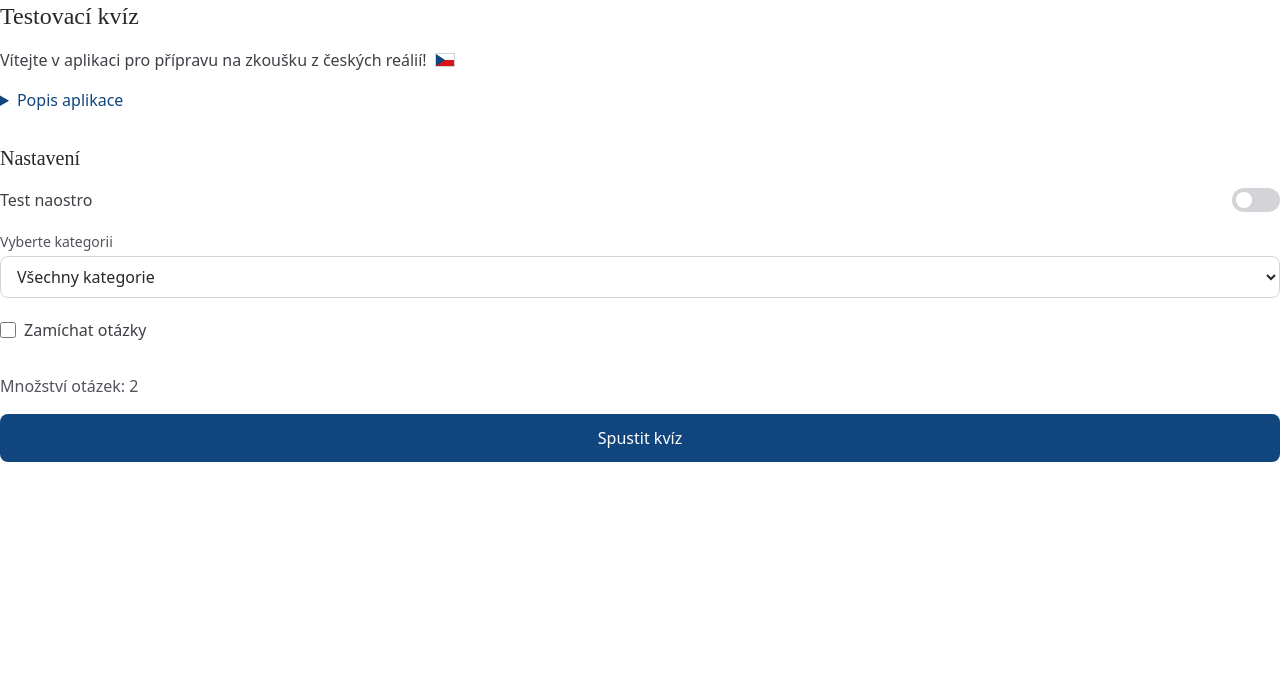
Test: Quiz › playing through a quiz › awards points for correct answers only
Click the button "Spustit kvíz" at (640, 438), box [0, 414, 1279, 462]
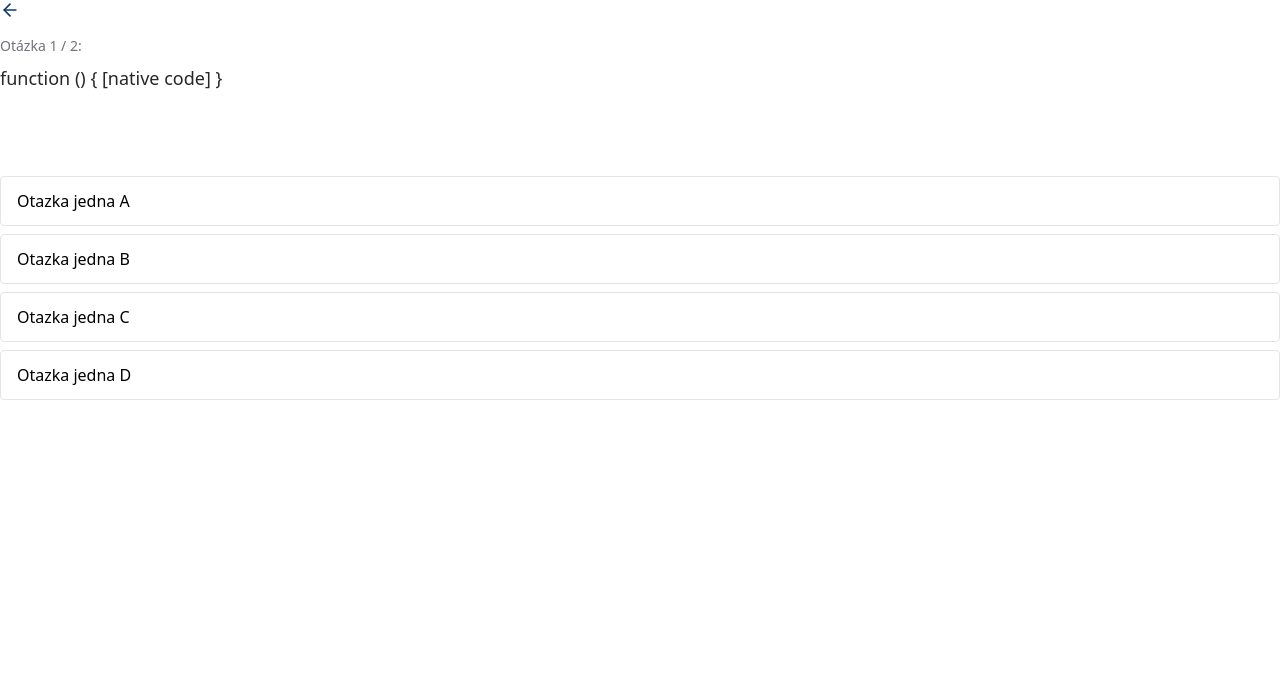
Click the button "Otazka jedna C" at (73, 317), box [0, 292, 1279, 342]
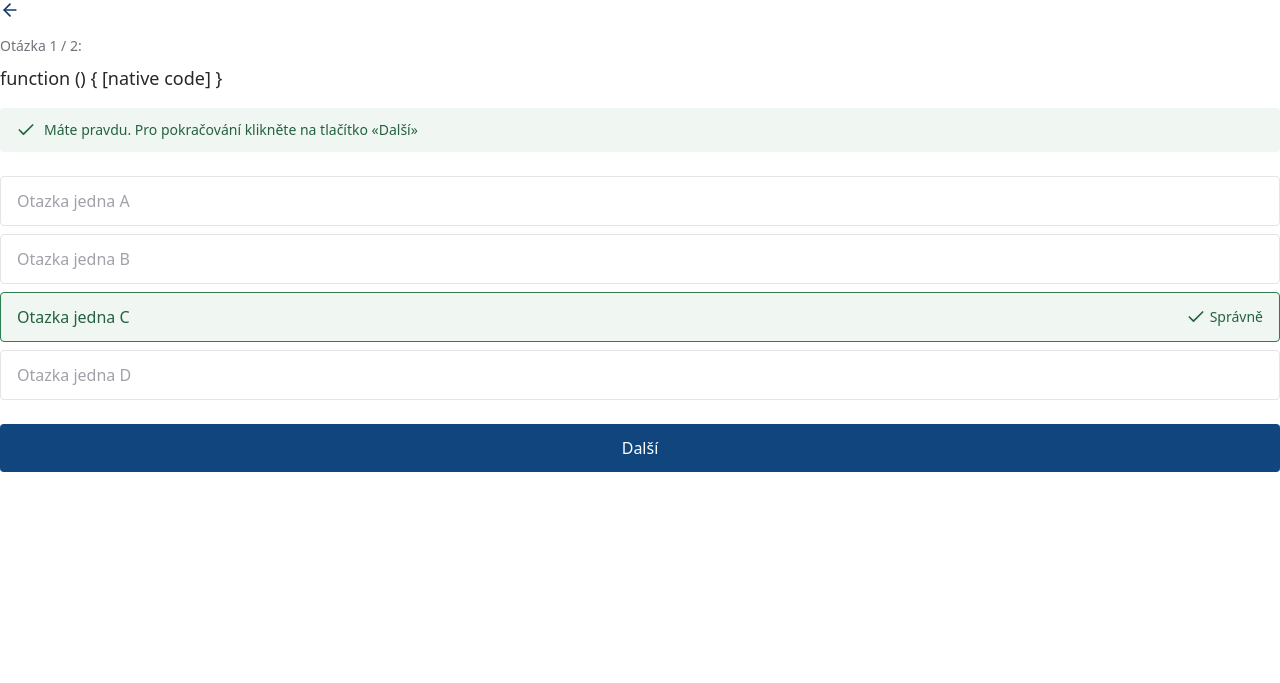
Click the button "Další" at (640, 448), box [0, 424, 1279, 472]
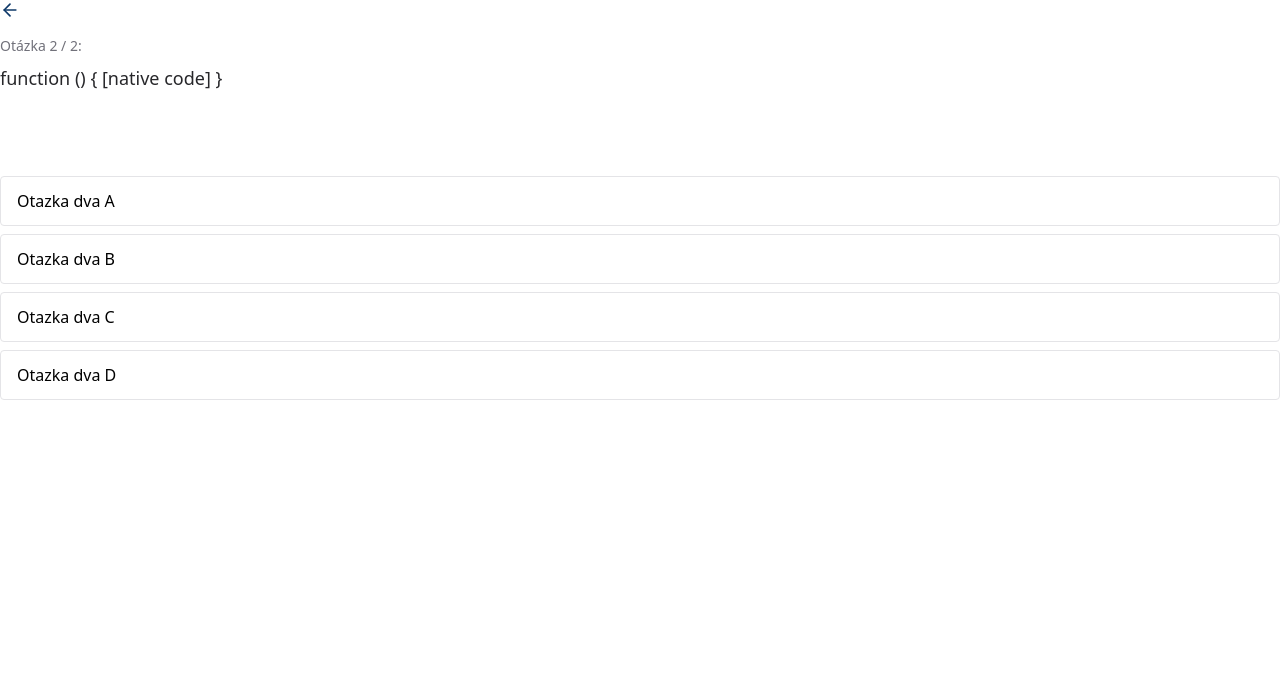
Click the button "Otazka dva D" at (67, 375), box [0, 350, 1279, 400]
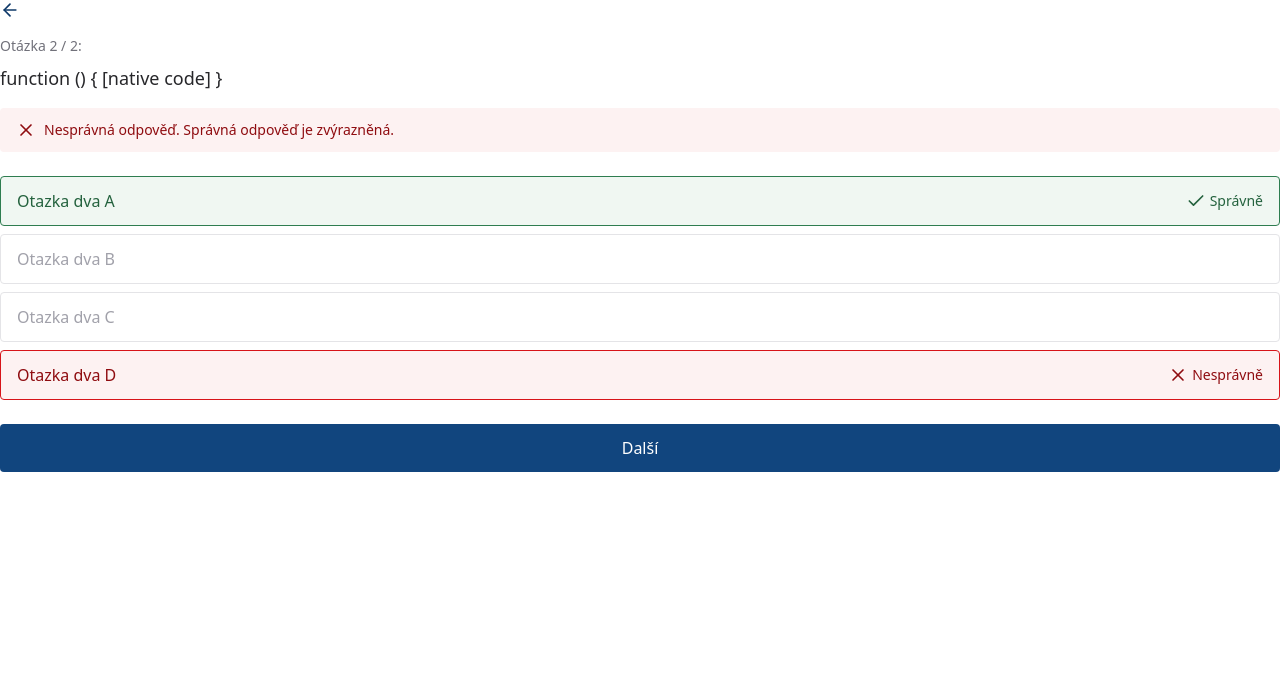
Click the button "Další" at (640, 448), box [0, 424, 1279, 472]
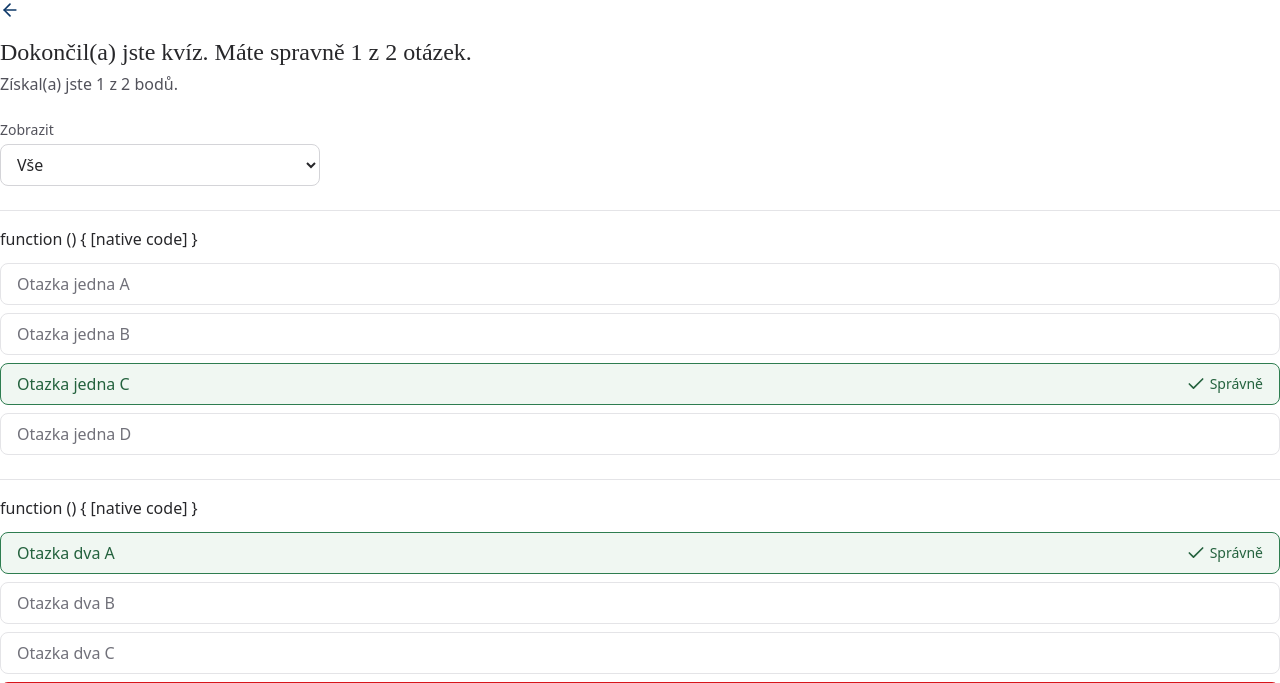
Expected: the text "Získal(a) jste 1 z 2 bodů." is shown, [0, 73, 178, 95]
